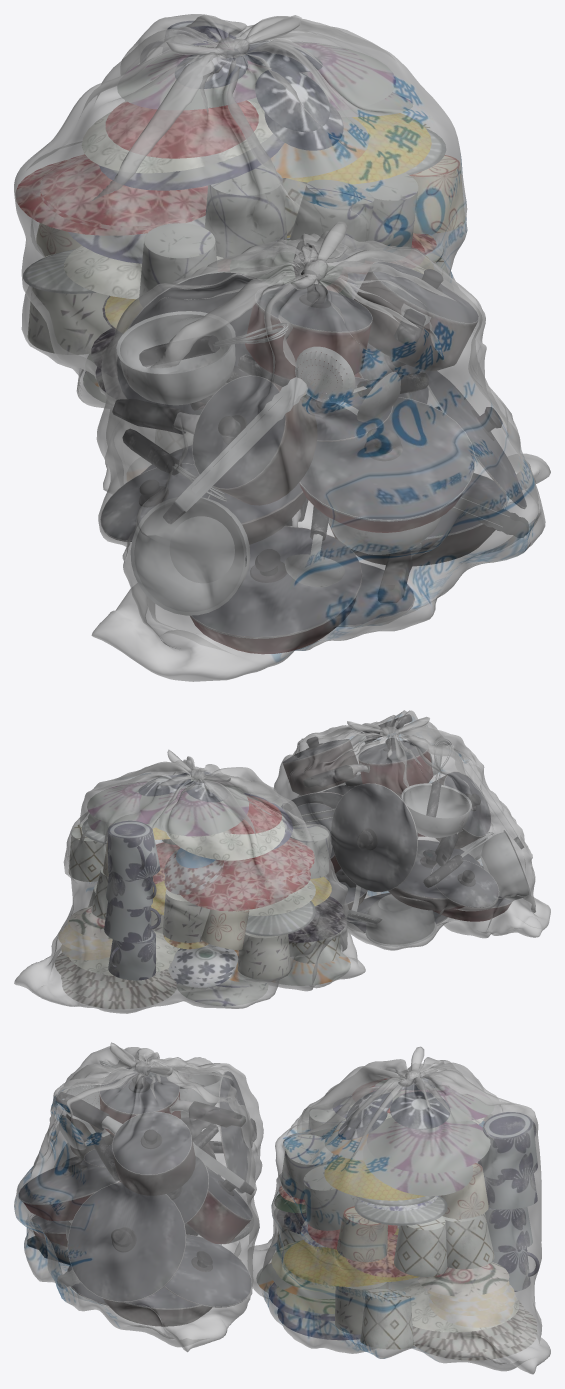
The picture shows the model from 3 angles, top to bottom: view 1: azimuth 30°, elevation 25°; view 2: azimuth 150°, elevation 25°; view 3: azimuth 270°, elevation 25°; orthographic projection. The views are drawn at different scales.
Parts seen in each view (by area): view 1: garbage bag incombustible2_garbage bag incombustible kitchen, kitchenware_kitchenware _0, garbage bag incombustible1 2_garbage bag incombustible_0, plete.001_plete_0, cup.001_cup_0, garbage bag incombustible handle low.001_garbge handle_0; view 2: garbage bag incombustible1 2_garbage bag incombustible_0, garbage bag incombustible2_garbage bag incombustible kitchen, plete.001_plete_0, kitchenware_kitchenware _0, cup.001_cup_0, garbage bag incombustible handle low.001_garbge handle_0; view 3: garbage bag incombustible1 2_garbage bag incombustible_0, garbage bag incombustible2_garbage bag incombustible kitchen, kitchenware_kitchenware _0, plete.001_plete_0, cup.001_cup_0, garbage bag incombustible handle low.001_garbge handle_0.
Part boxes in pixels (<box>): garbage bag incombustible2_garbage bag incombustible kitchen: <box>91,231,550,681</box>; kitchenware_kitchenware _0: <box>100,241,529,654</box>; garbage bag incombustible1 2_garbage bag incombustible_0: <box>14,14,467,493</box>; plete.001_plete_0: <box>15,40,446,402</box>; cup.001_cup_0: <box>27,20,464,354</box>; garbage bag incombustible handle low.001_garbge handle_0: <box>166,15,347,289</box>; garbage bag incombustible1 2_garbage bag incombustible_0: <box>14,756,365,1013</box>; garbage bag incombustible2_garbage bag incombustible kitchen: <box>273,710,550,950</box>; plete.001_plete_0: <box>55,771,350,1009</box>; kitchenware_kitchenware _0: <box>282,714,530,946</box>; cup.001_cup_0: <box>68,794,340,980</box>; garbage bag incombustible handle low.001_garbge handle_0: <box>167,716,429,782</box>; garbage bag incombustible1 2_garbage bag incombustible_0: <box>248,1057,550,1374</box>; garbage bag incombustible2_garbage bag incombustible kitchen: <box>14,1046,263,1352</box>; kitchenware_kitchenware _0: <box>18,1060,256,1326</box>; plete.001_plete_0: <box>256,1076,537,1360</box>; cup.001_cup_0: <box>276,1108,539,1349</box>; garbage bag incombustible handle low.001_garbge handle_0: <box>109,1042,424,1087</box>.
Size of the model in its own units: 5.96 by 3.95 by 7.19.
6 materials, 5 textured.
